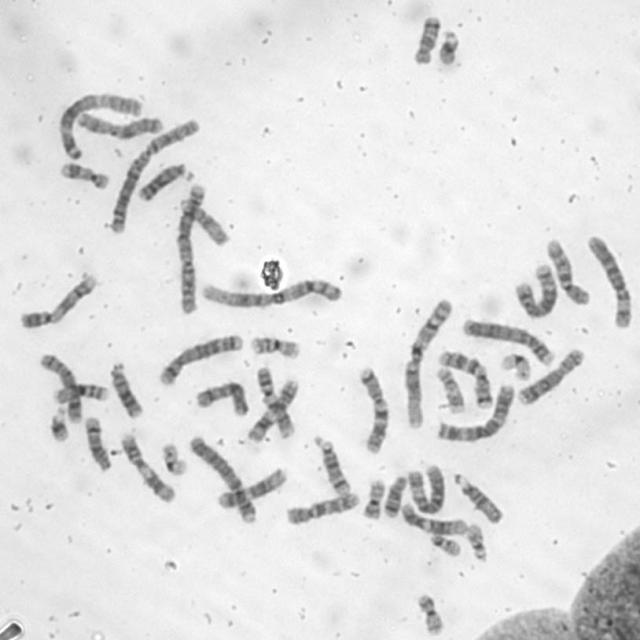A1: (402, 296, 454, 431), (195, 274, 344, 310)
A2: (105, 115, 202, 236), (172, 180, 208, 316)
A3: (54, 89, 145, 162), (432, 380, 516, 443)
B4: (186, 431, 260, 526), (459, 315, 557, 367)
B5: (156, 330, 245, 387), (510, 260, 559, 320)
C10: (543, 235, 591, 307), (282, 488, 362, 527)
C11: (117, 431, 178, 505), (245, 377, 301, 444)
C12: (215, 464, 288, 510), (398, 499, 468, 536)
C6: (584, 231, 634, 330), (404, 461, 447, 515)
C7: (434, 347, 494, 412), (355, 362, 391, 455)
C8: (514, 345, 587, 407), (36, 349, 84, 426)
C9: (16, 268, 100, 332), (255, 364, 297, 442)
D13: (136, 160, 193, 203), (107, 358, 145, 419)
D14: (310, 432, 352, 498), (83, 413, 113, 471)
D15: (450, 469, 504, 526), (176, 196, 230, 247)
E16: (50, 380, 110, 405), (248, 332, 303, 359)
E17: (57, 158, 112, 191), (433, 363, 466, 415)
E18: (410, 12, 442, 66), (381, 471, 408, 519)
F19: (498, 350, 532, 382), (159, 440, 189, 476)
F20: (413, 590, 445, 636), (360, 476, 386, 522)
G21: (435, 27, 461, 66), (46, 404, 71, 443)
G22: (464, 520, 489, 564), (426, 531, 463, 557)
X: (72, 108, 164, 140), (193, 378, 250, 418)
